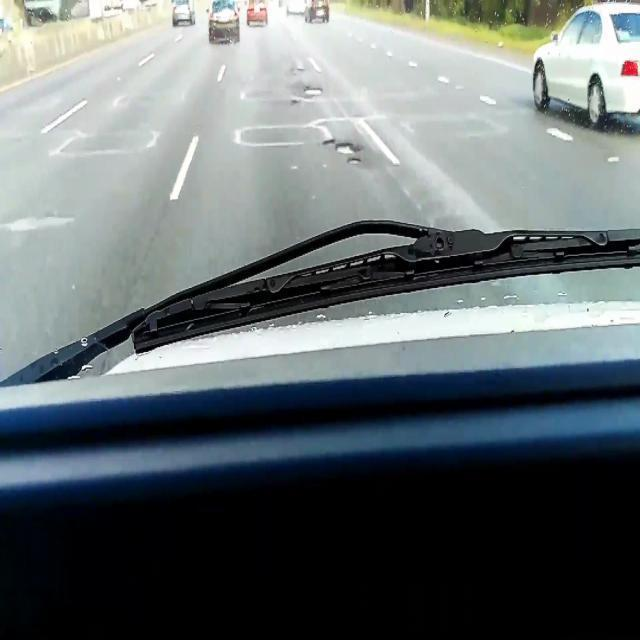pothole: (336, 141, 362, 157), (303, 87, 324, 96)
